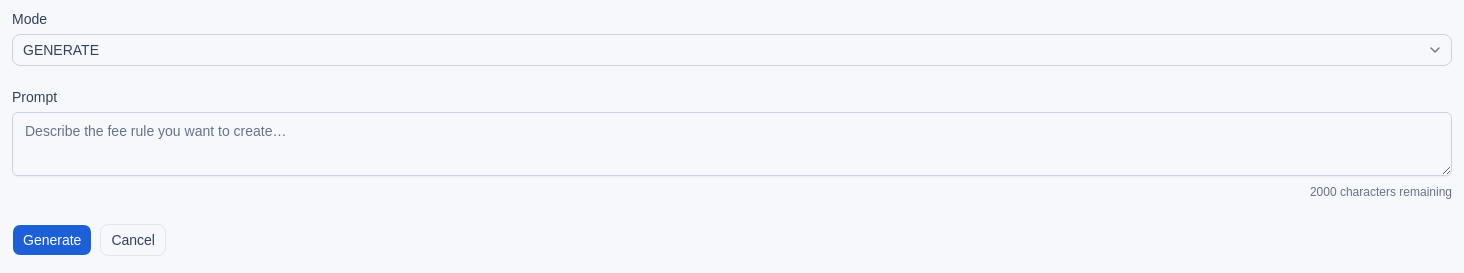
Test case: PromptForm › shows character count for prompt
The width and height of the screenshot is (1464, 273).
Step 1. Type "abc" into the text box labelled "Prompt" → (732, 144), box [12,112,1452,176]
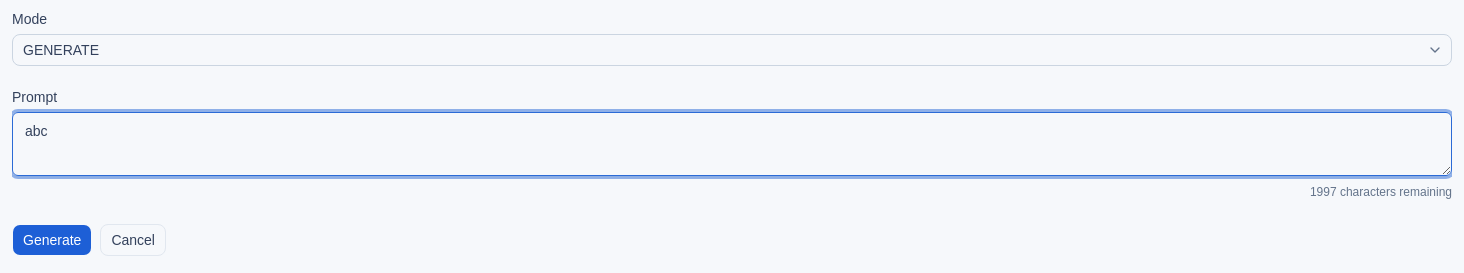
Result: the text "1997 characters remaining" is shown at [1310,185,1452,199]
